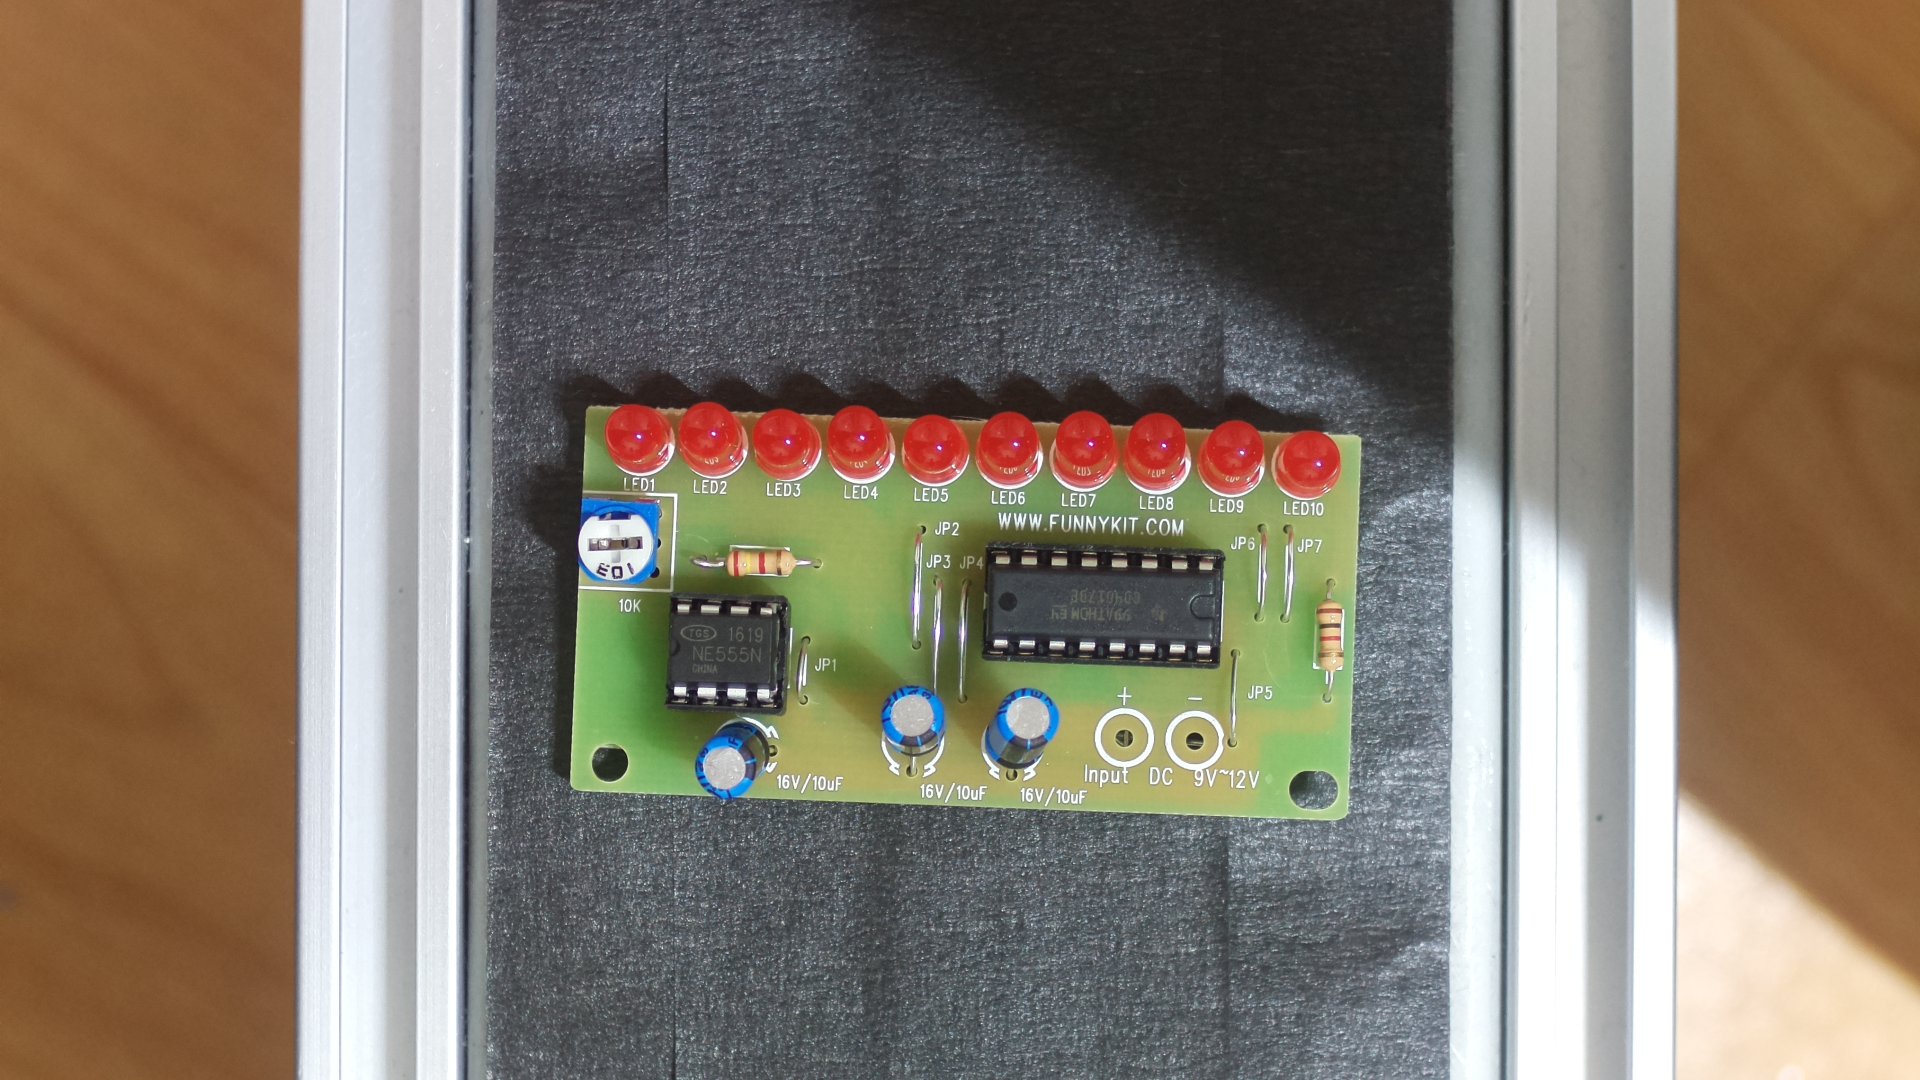B_Normal: (556, 386, 1374, 841)
